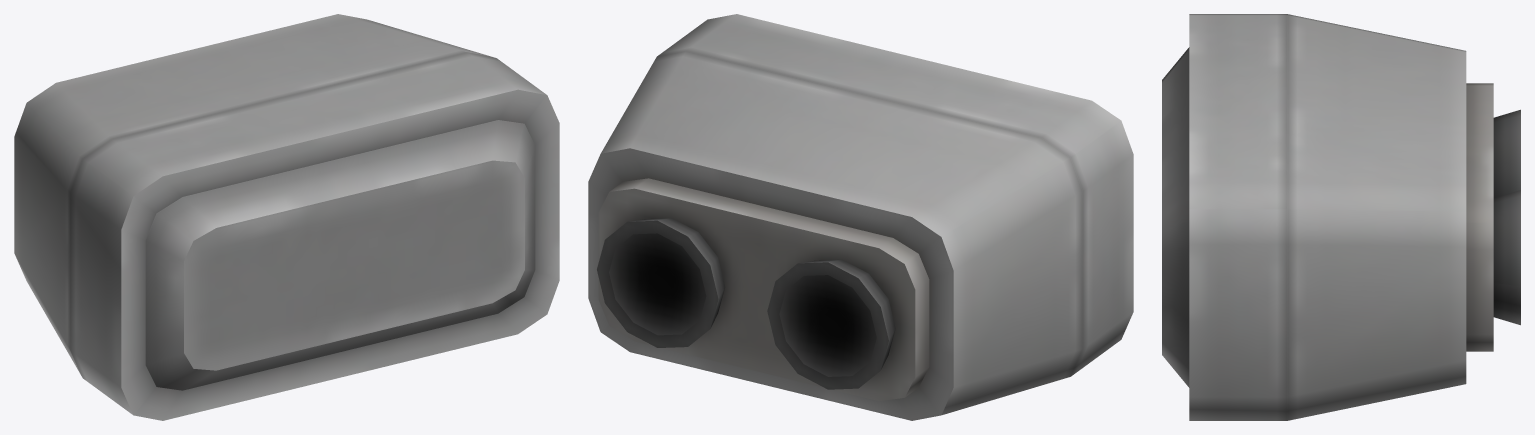
The model's file is Tantares_MOE_5_E.obj.
3 views of the same model, side by side, from view 1: azimuth 30°, elevation 25°; view 2: azimuth 150°, elevation 25°; view 3: azimuth 270°, elevation 25° (orthographic). The views are drawn at different scales.
Visible parts, largest first — view 1: Tantares_MOE_5_E; view 2: Tantares_MOE_5_E; view 3: Tantares_MOE_5_E.
Boxes of the visible parts, box(x1,y1,x2,y2) form: Tantares_MOE_5_E: box(14, 14, 559, 420); Tantares_MOE_5_E: box(588, 14, 1133, 420); Tantares_MOE_5_E: box(1162, 14, 1520, 420).
Bounding box in the file's own units: 0.225 × 0.12 × 0.165.
